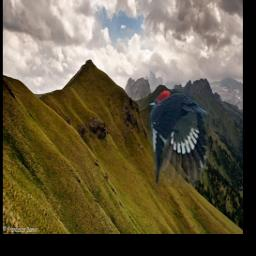Woodpecker: (149, 89, 209, 187)
